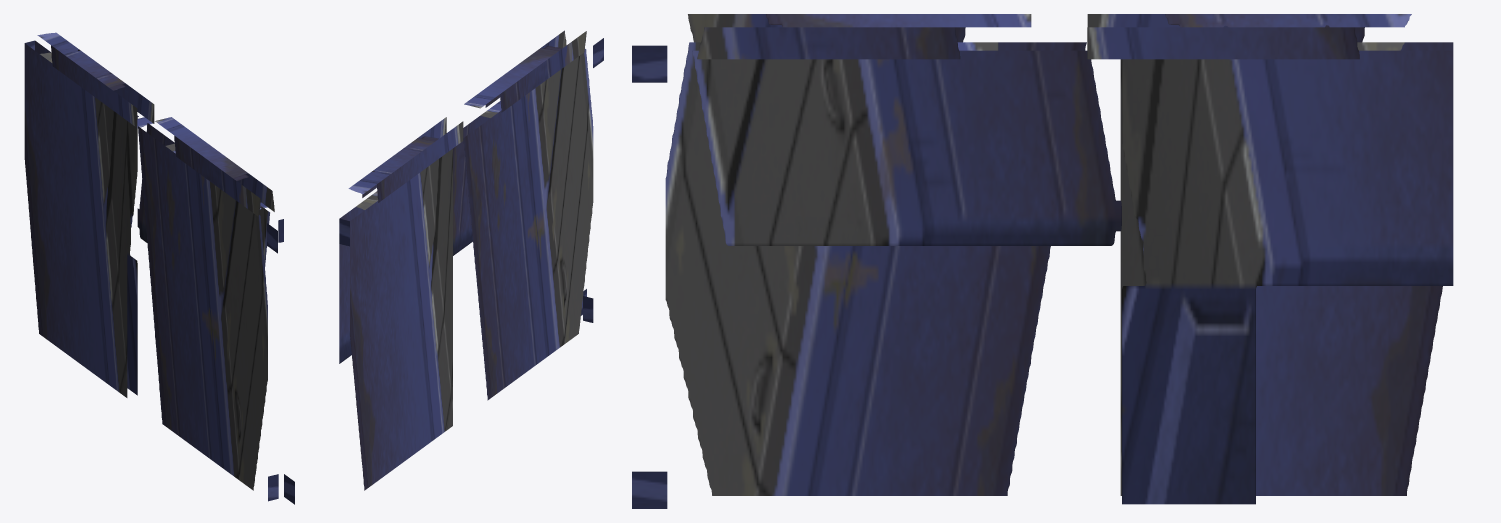
The picture shows the model from 3 angles, left to right: view 1: azimuth 30°, elevation 25°; view 2: azimuth 150°, elevation 25°; view 3: azimuth 270°, elevation 25°; orthographic projection. The views are drawn at different scales.
Size of the model in its own units: 0.04 by 0.6745 by 1.08.
